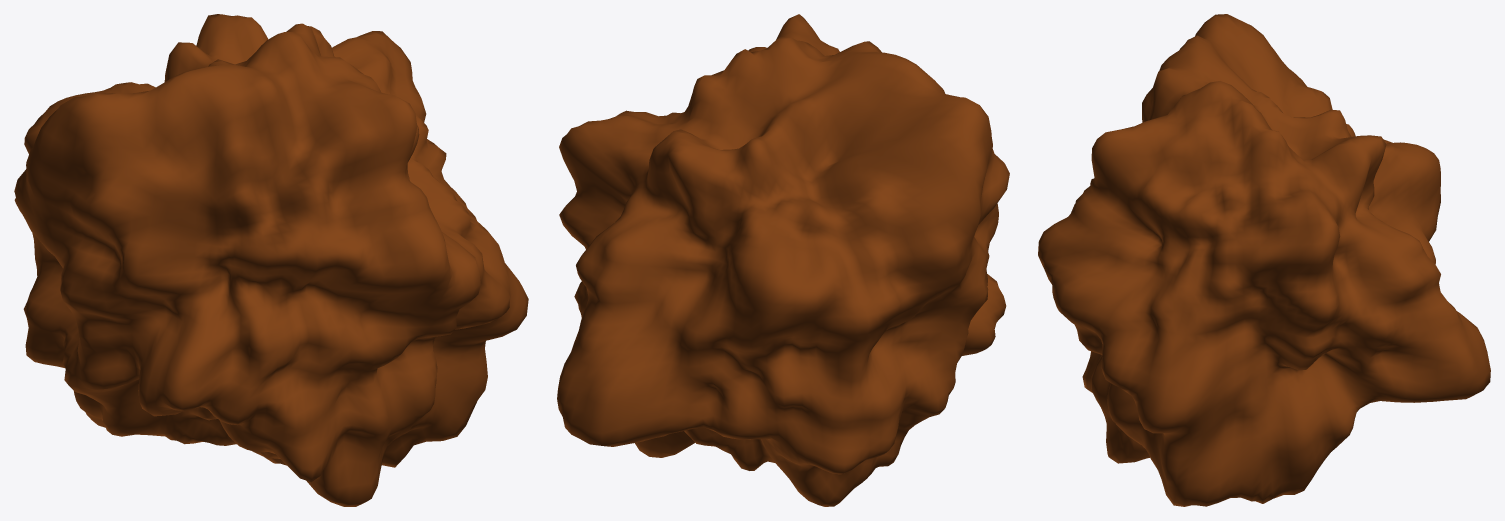
Rendered from asteroid4.fbx.
The picture shows the model from 3 angles, left to right: view 1: azimuth 30°, elevation 25°; view 2: azimuth 150°, elevation 25°; view 3: azimuth 270°, elevation 25°; orthographic projection. The views are drawn at different scales.
Parts seen in each view (by area): view 1: Cube; view 2: Cube; view 3: Cube.
Part boxes in pixels (x1,y1,x2,y2): Cube: [14, 14, 528, 506]; Cube: [557, 14, 1009, 506]; Cube: [1038, 14, 1490, 506].
Size of the model in its own units: 199 by 192 by 206.
